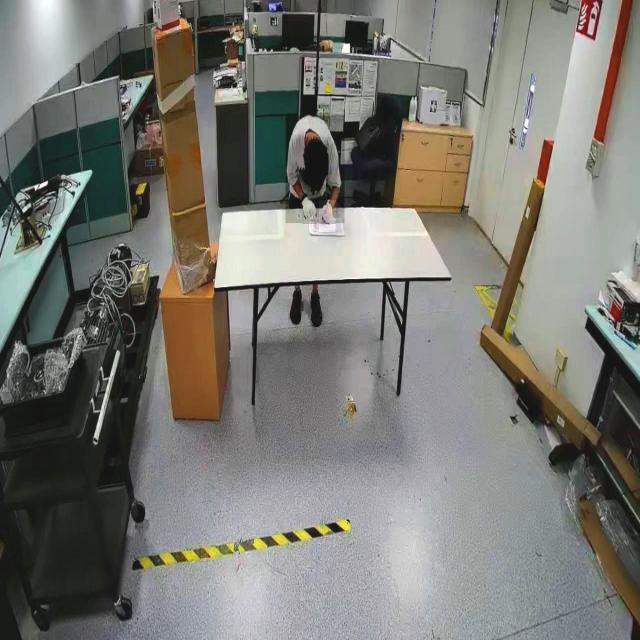hand_glove: (318, 200, 336, 233), (302, 194, 316, 227)
head_nohelmet: (304, 137, 332, 176)
person: (285, 116, 345, 224)
shoes: (284, 284, 304, 330), (305, 287, 324, 330)
